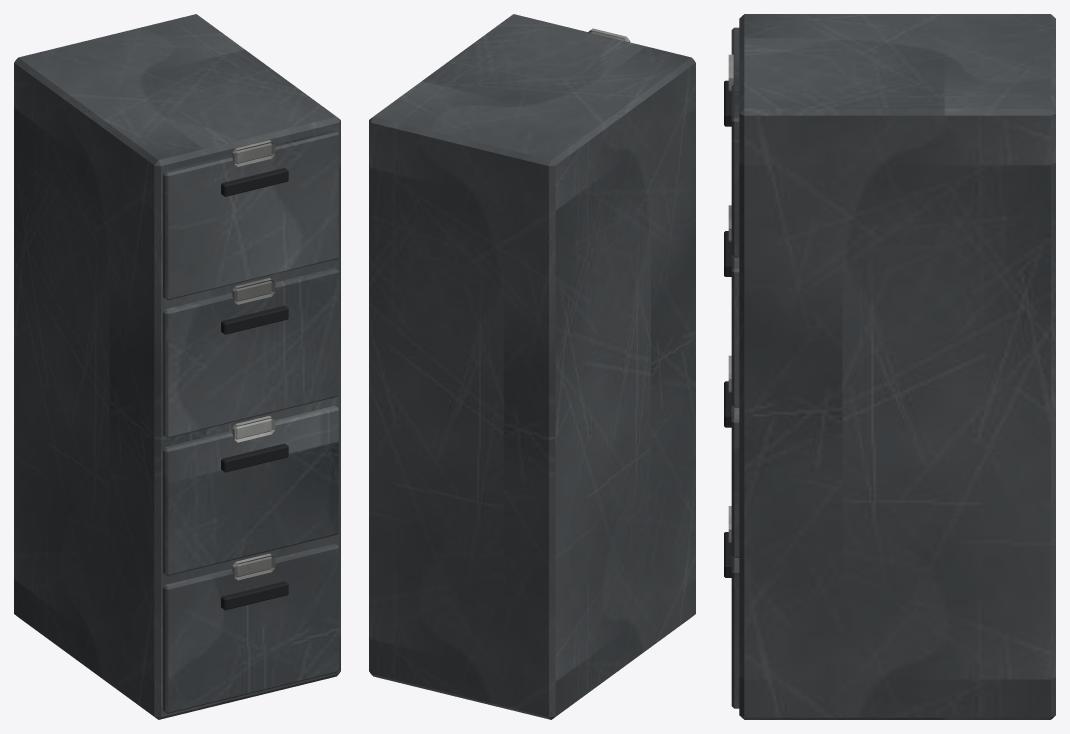
File: filing_cabinet.glb
3 renders of one model, left to right at view 1: azimuth 30°, elevation 25°; view 2: azimuth 150°, elevation 25°; view 3: azimuth 270°, elevation 25°, orthographic. The views are drawn at different scales.
Parts seen in each view (by area): view 1: body; view 2: body; view 3: body.
Part boxes in pixels (left/top/right/bottom): body: left=14, top=14, right=340, bottom=719; body: left=369, top=14, right=695, bottom=719; body: left=724, top=14, right=1055, bottom=719.
Size of the model in its own units: 0.46 by 1.32 by 0.65.
Materials: 3 (2 with a texture image).
